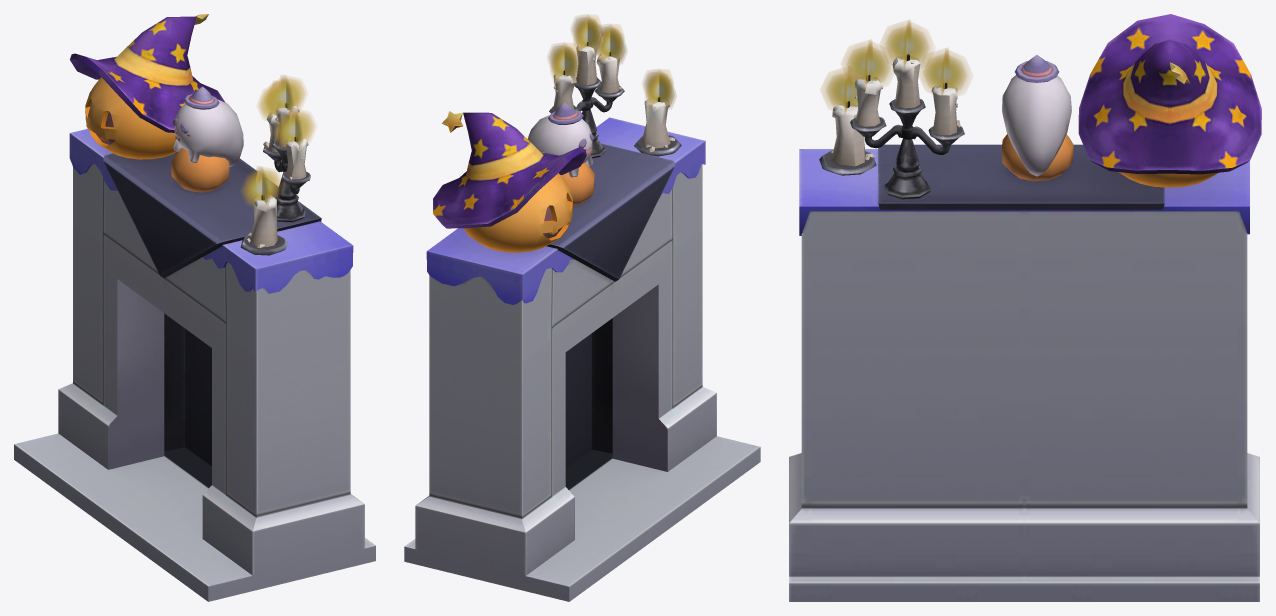
The model's file is my_halloween_01_p_fireplace.glb.
3 views of the same model, side by side, from view 1: azimuth 30°, elevation 25°; view 2: azimuth 150°, elevation 25°; view 3: azimuth 270°, elevation 25° (orthographic). The views are drawn at different scales.
Visible parts, largest first — view 1: my_halloween_01_p_fireplace, my_halloween_01_fire, my_halloween_01_fire (5), my_halloween_01_fire (7), my_halloween_01_fire (6); view 2: my_halloween_01_p_fireplace, my_halloween_01_fire, my_halloween_01_fire (7), my_halloween_01_fire (6), my_halloween_01_fire (5); view 3: my_halloween_01_p_fireplace, my_halloween_01_fire (6), my_halloween_01_fire (5), my_halloween_01_fire (7), my_halloween_01_fire.
Boxes of the visible parts, left/top/right/bottom form: my_halloween_01_p_fireplace: left=14, top=14, right=375, bottom=601; my_halloween_01_fire: left=241, top=166, right=282, bottom=208; my_halloween_01_fire (5): left=274, top=108, right=315, bottom=150; my_halloween_01_fire (7): left=265, top=75, right=305, bottom=115; my_halloween_01_fire (6): left=257, top=81, right=278, bottom=120; my_halloween_01_p_fireplace: left=404, top=42, right=760, bottom=601; my_halloween_01_fire: left=643, top=69, right=676, bottom=109; my_halloween_01_fire (7): left=572, top=14, right=604, bottom=55; my_halloween_01_fire (6): left=548, top=43, right=581, bottom=83; my_halloween_01_fire (5): left=597, top=24, right=627, bottom=64; my_halloween_01_p_fireplace: left=789, top=14, right=1261, bottom=601; my_halloween_01_fire (6): left=918, top=48, right=970, bottom=99; my_halloween_01_fire (5): left=841, top=39, right=893, bottom=89; my_halloween_01_fire (7): left=880, top=20, right=932, bottom=69; my_halloween_01_fire: left=821, top=67, right=858, bottom=113.
Bounding box in the file's own units: 0.00547 × 0.0144 × 0.011.
Materials: 2 (2 with a texture image).
